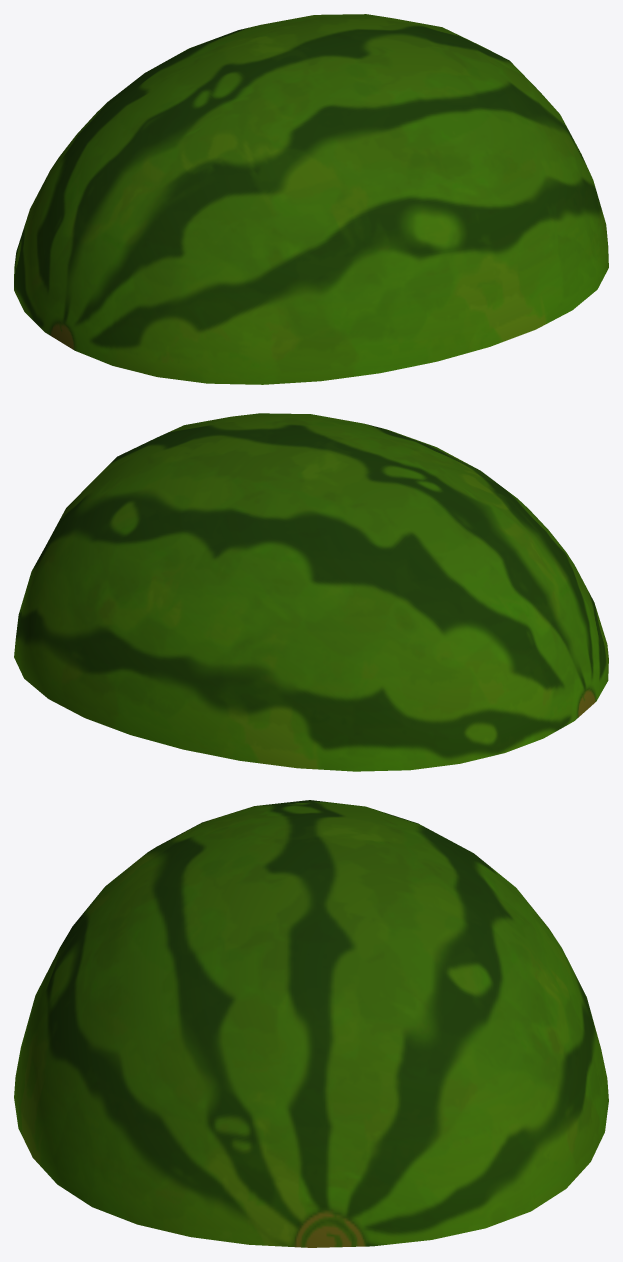
File: SM_WatermelonCutTop.fbx
3 views of the same model, one above another, from view 1: azimuth 30°, elevation 25°; view 2: azimuth 150°, elevation 25°; view 3: azimuth 270°, elevation 25° (orthographic). The views are drawn at different scales.
Parts seen in each view (by area): view 1: SM_Watermelon.001; view 2: SM_Watermelon.001; view 3: SM_Watermelon.001.
Part boxes in pixels (x1,y1,x2,y2): SM_Watermelon.001: (14, 14, 608, 384); SM_Watermelon.001: (14, 413, 608, 771); SM_Watermelon.001: (14, 800, 608, 1247).
Bounding box in the file's own units: 38.45 × 15.3 × 32.3.
Materials: 1 (1 with a texture image).
